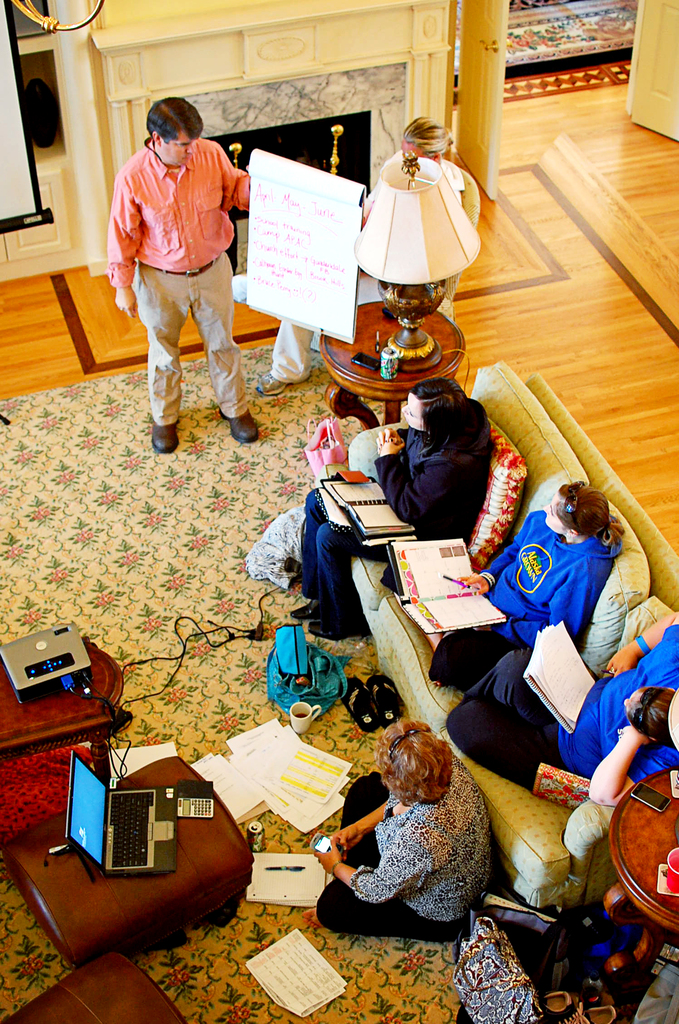Footwear: (307, 620, 371, 641), (229, 408, 259, 443), (148, 419, 176, 453), (286, 598, 318, 623)
